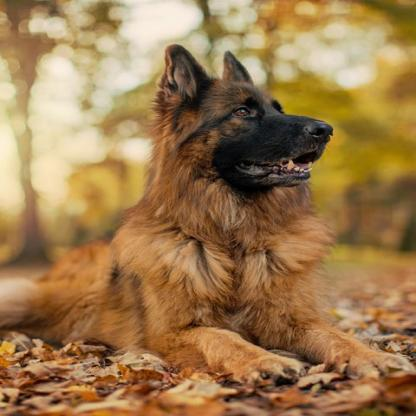german shepherd: (19, 66, 381, 383)
